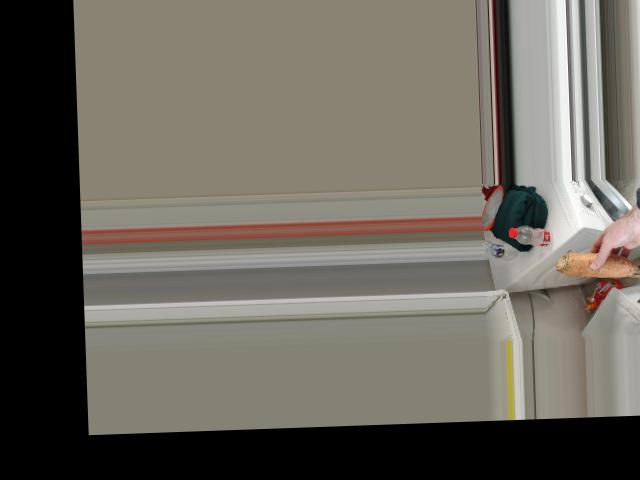sweet_potato: (553, 247, 640, 280)
